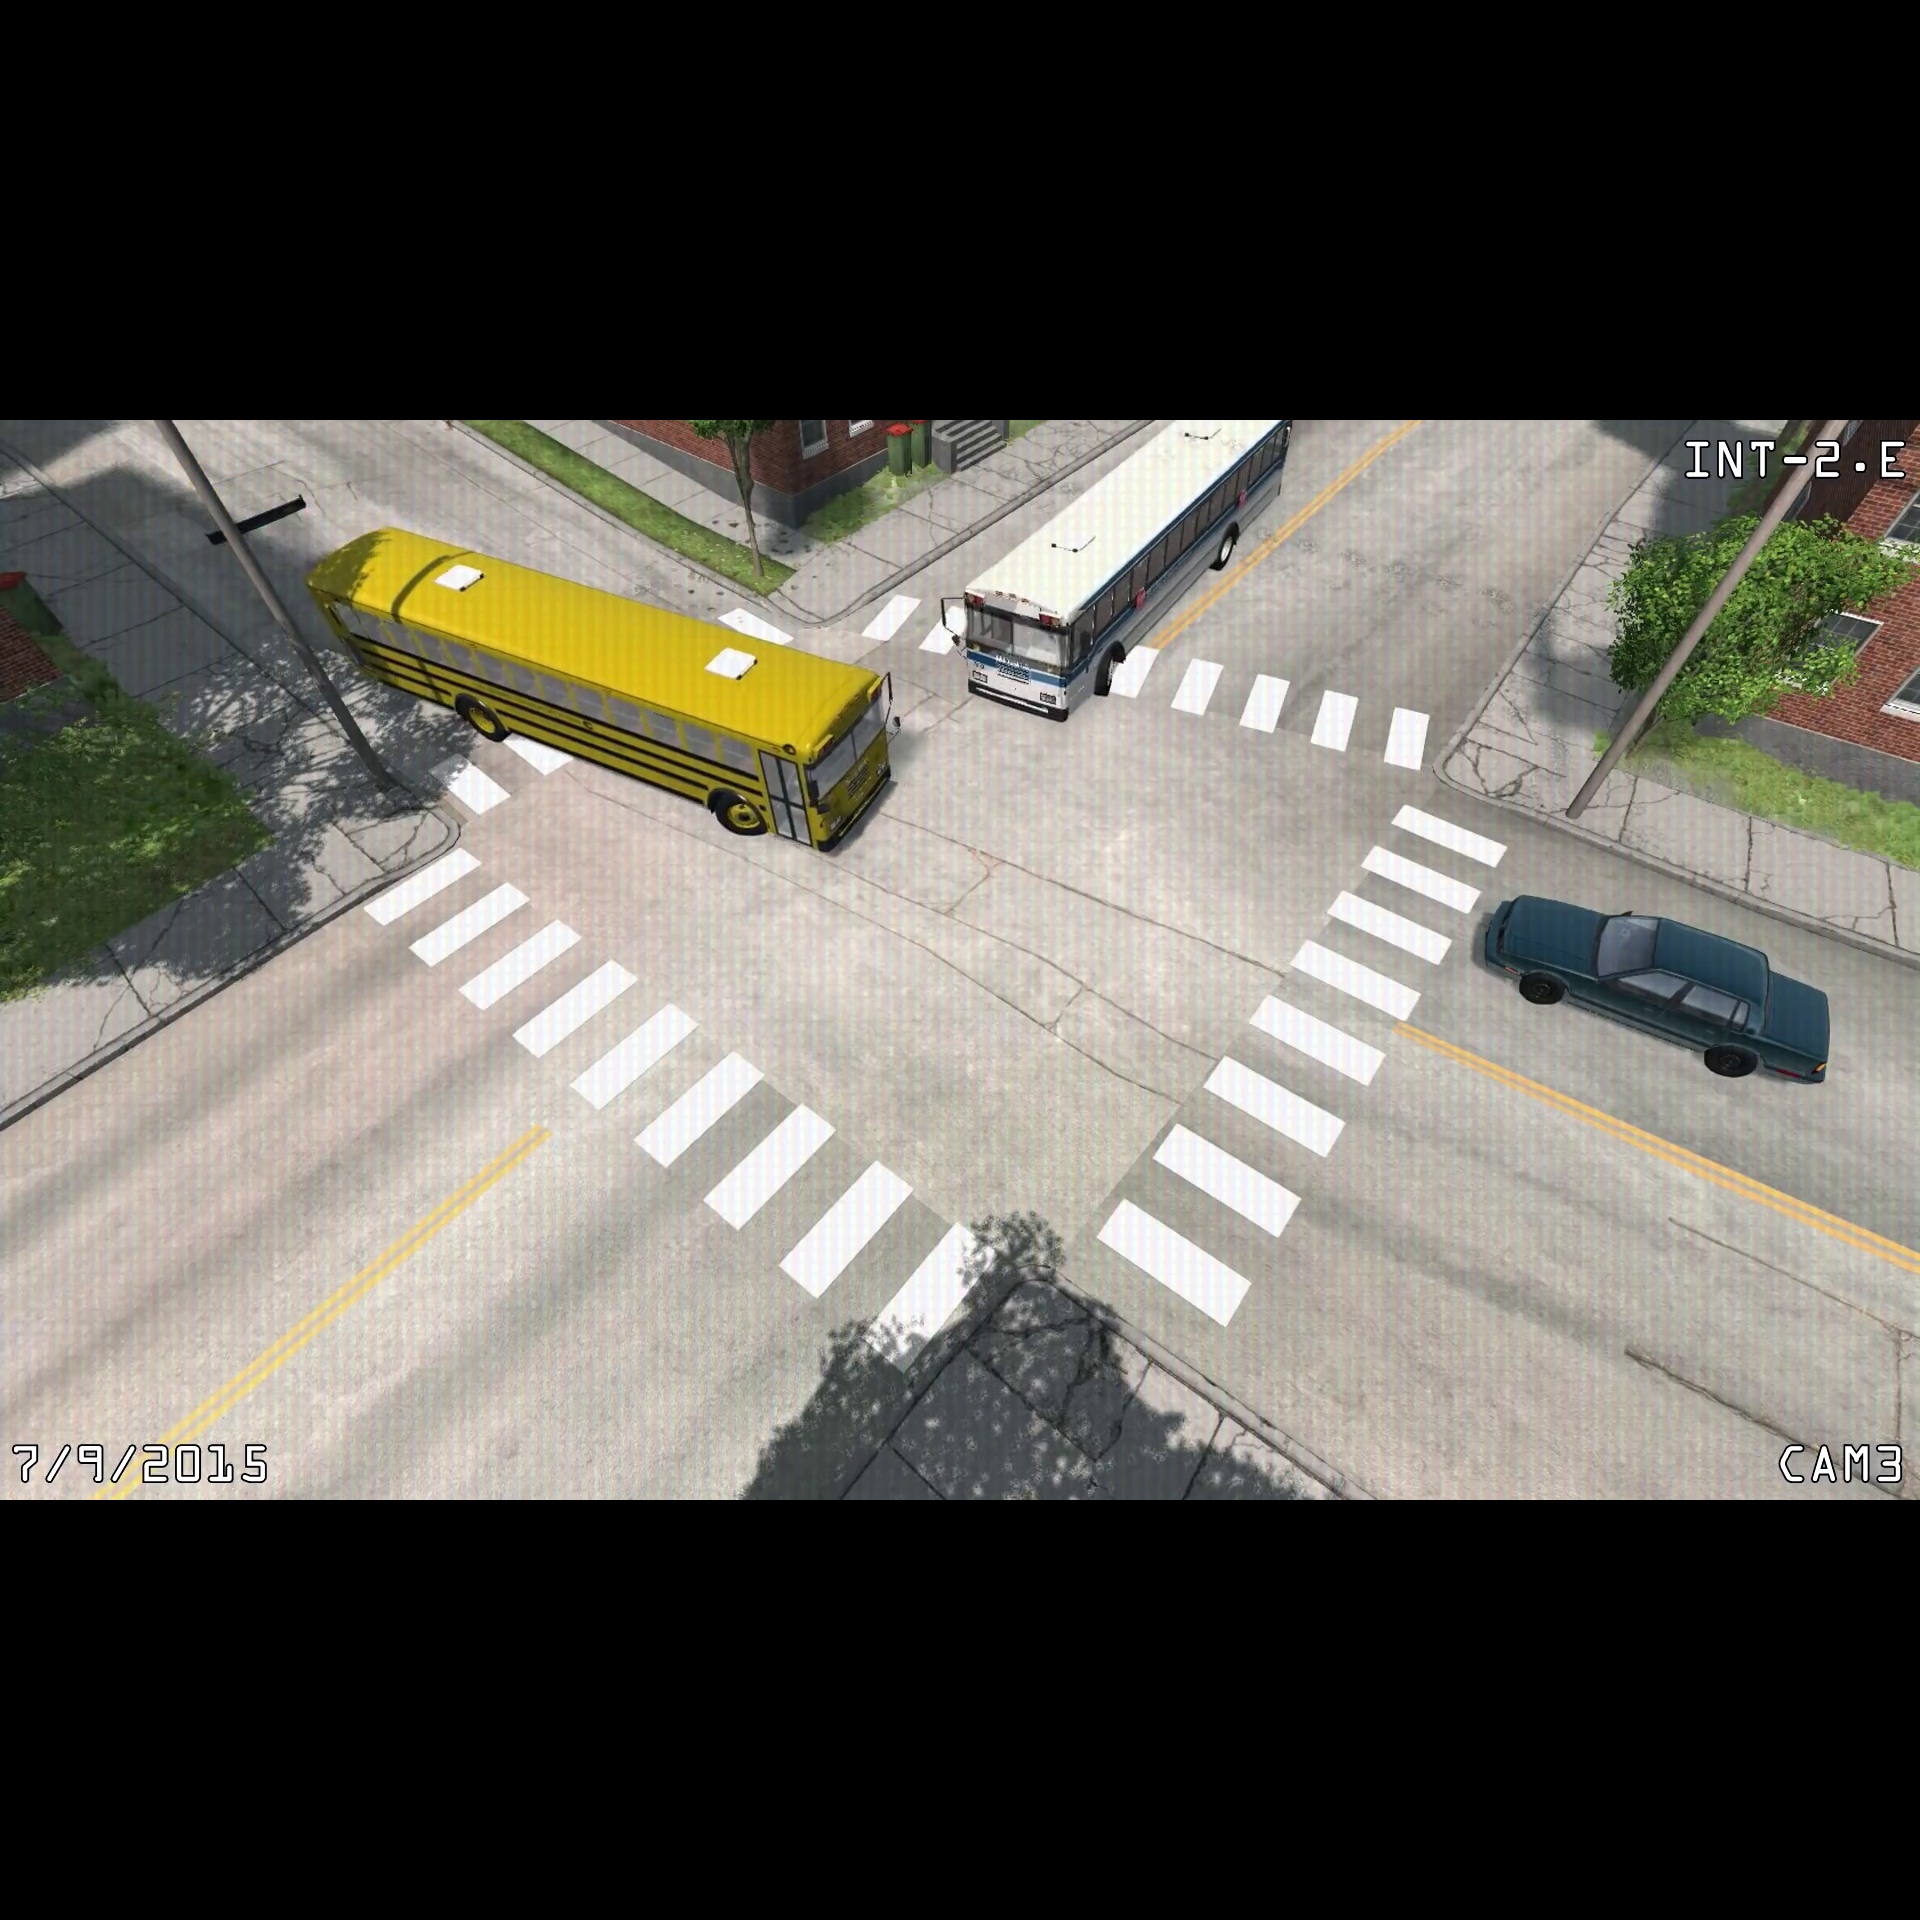vehicle: (295, 517, 905, 863), (935, 418, 1299, 730), (1470, 879, 1846, 1097)
